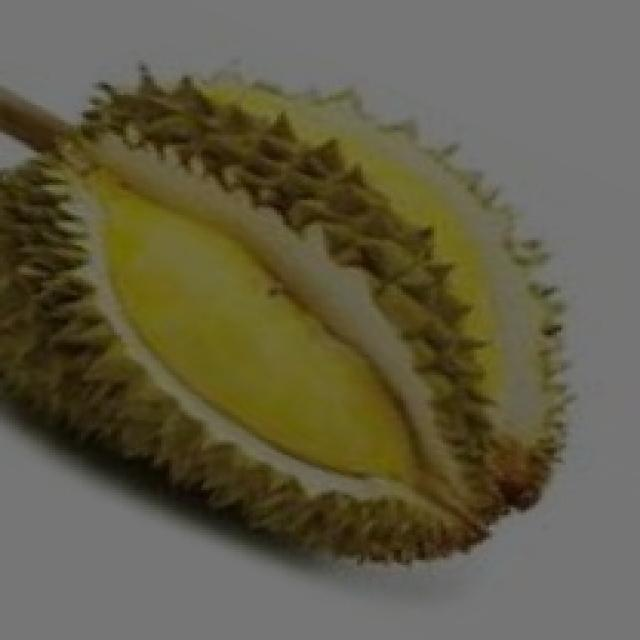fruit: (249, 213, 634, 615), (0, 205, 388, 600)
